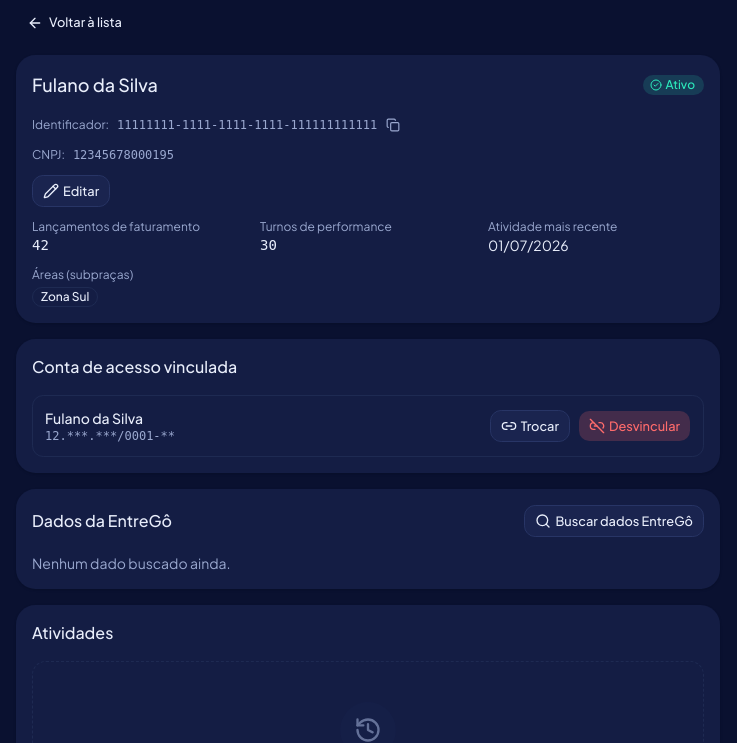
Test: MotoristaDetalhePage › Dados da EntreGô (FASE 7, tasks 7.1/7.2) › enquanto a busca está pendente, refaz a consulta sozinha e mostra o dado quando ele chega
Click the button "Buscar dados EntreGô" at x=614, y=521, box [524,505,704,537]
Wait 21000 ms
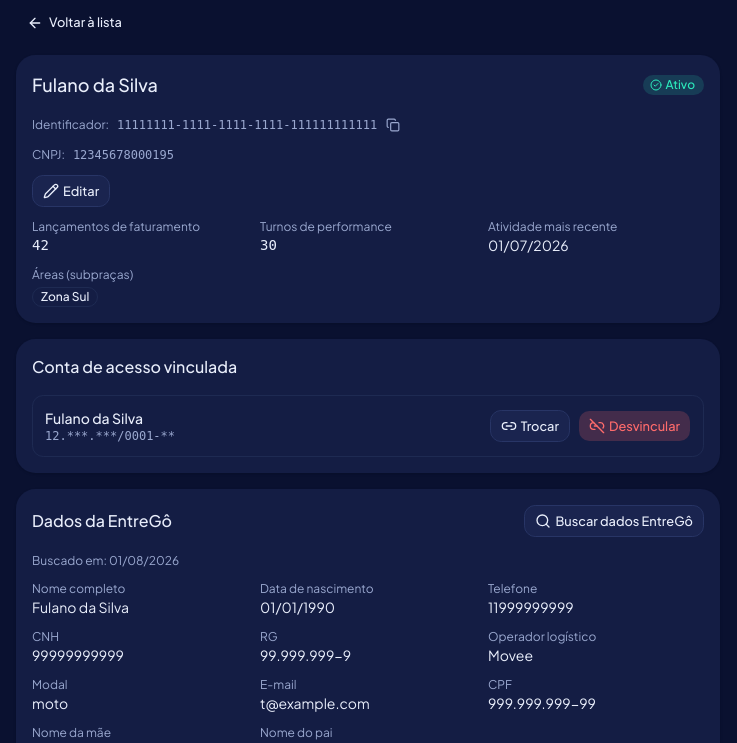
Expected: the text "999.999.999-99" is shown, [488,694,596,712]
